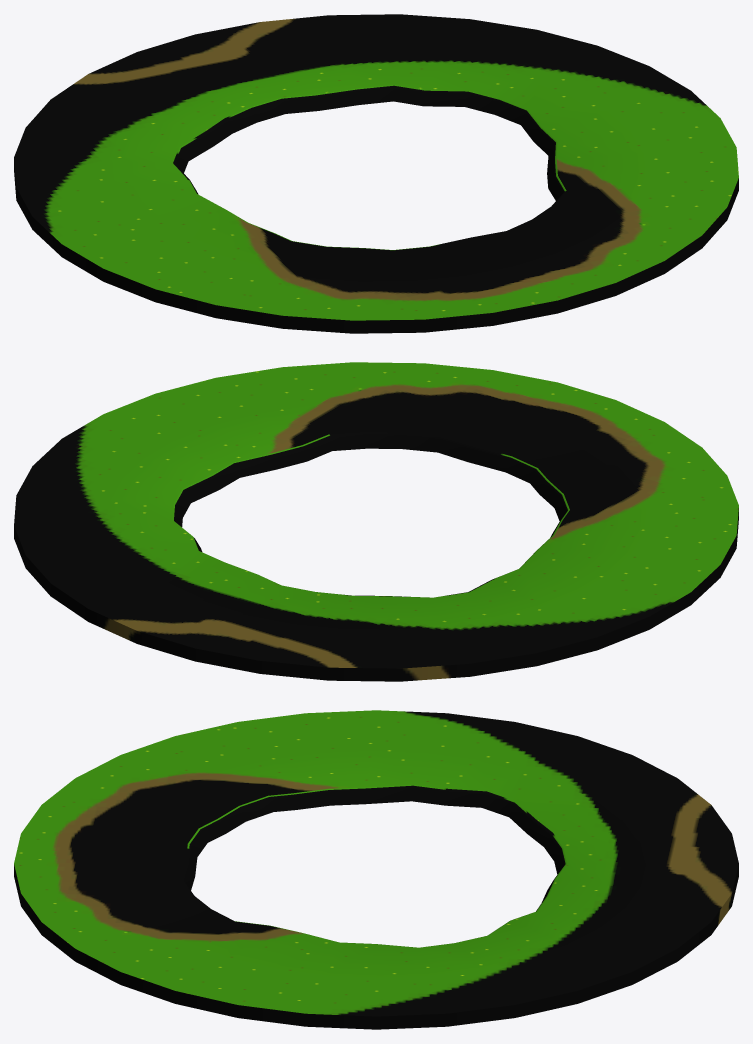
Rendered from Wall.fbx.
3 renders of one model, top to bottom at view 1: azimuth 30°, elevation 25°; view 2: azimuth 150°, elevation 25°; view 3: azimuth 270°, elevation 25°, orthographic.
Parts seen in each view (by area): view 1: Tube001; view 2: Tube001; view 3: Tube001.
Boxes of the visible parts, box(x1,y1,x2,y2) form: Tube001: box(14, 14, 738, 333); Tube001: box(14, 362, 738, 681); Tube001: box(14, 710, 738, 1029).
Bounding box in the file's own units: 6065 × 120 × 6065.
